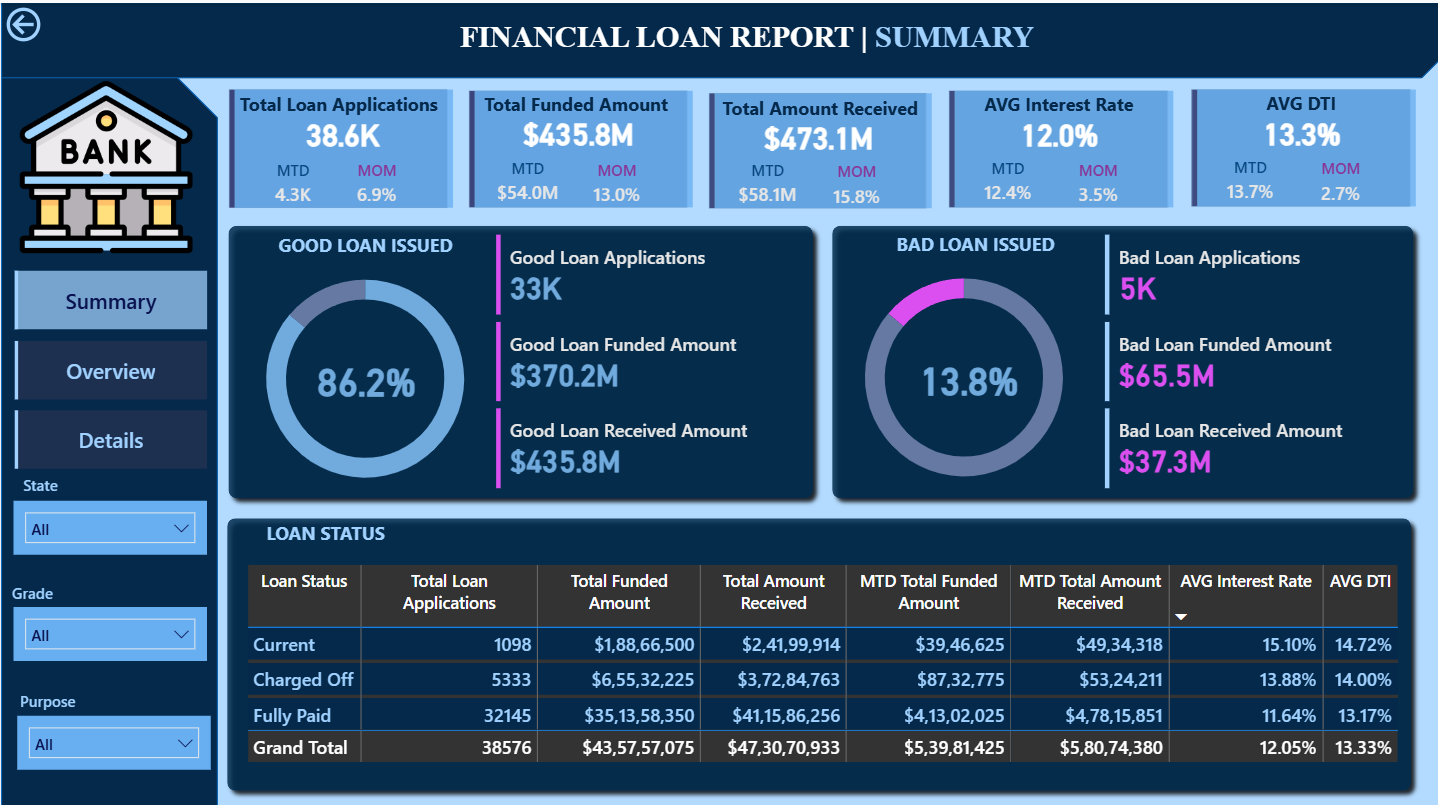

The dashboard page shown, as its layout file describes it:
{"tool":"powerbi","page":{"name":"Summary","canvas":[1280,720],"ordinal":0},"visuals":[{"type":"shape","box":[0,54.3,192.9,665.7],"z":0},{"type":"shape","box":[202.5,72.5,205.2,116.2],"z":0,"group":"g1"},{"type":"shape","box":[1057.7,72.5,205.4,115.1],"z":0,"group":"g7"},{"type":"shape","box":[416.1,73.9,204.9,114.8],"z":0,"group":"g3"},{"type":"shape","box":[843,73.9,205.4,114.8],"z":0,"group":"g6"},{"type":"shape","box":[629.7,75.4,204.1,113.4],"z":0,"group":"g4"},{"type":"shape","box":[730,190,534.3,260],"z":0,"group":"g8"},{"type":"shape","box":[0,0,1280,68],"z":1000},{"type":"group","id":"g1","title":"Group 1","box":[202.5,72.5,205.2,116.2],"z":1000,"group":"g2"},{"type":"textbox","box":[1054.6,74.1,202.8,36.8],"z":1000,"group":"g7"},{"type":"textbox","box":[205.1,74.4,195.9,36],"z":1000,"group":"g1"},{"type":"textbox","box":[413,75.5,202.3,36.7],"z":1000,"group":"g3"},{"type":"textbox","box":[839.9,75.5,202.8,36.7],"z":1000,"group":"g6"},{"type":"textbox","box":[628.1,77.2,200.9,35.9],"z":1000,"group":"g4"},{"type":"donutChart","fields":{"Category":["financial_loan_analysis financial_loan_data.Good vs Bad Loans"],"Y":["financial_loan_analysis financial_loan_data.Total Loan Applications"]},"box":[731.6,219.4,250,230],"z":1000,"group":"g8"},{"type":"textbox","box":[344,10.7,637.3,44],"z":2000},{"type":"card","title":"MTD","fields":{"Values":["financial_loan_analysis financial_loan_data.MTD AVG DTI"]},"box":[1075.8,138.1,70.2,43.9],"z":2000,"group":"g7"},{"type":"card","title":"MTD","fields":{"Values":["financial_loan_analysis financial_loan_data.MTD Total Funded Amount"]},"box":[434.2,139.4,70.1,43.8],"z":2000,"group":"g3"},{"type":"card","title":"MTD","fields":{"Values":["financial_loan_analysis financial_loan_data.MTD AVG Interest Rate"]},"box":[861.1,139.4,70.2,43.8],"z":2000,"group":"g6"},{"type":"card","title":"MTD","fields":{"Values":["financial_loan_analysis financial_loan_data.MTD Loan Applications"]},"box":[231.3,139.9,57.1,42.4],"z":2000,"group":"g1"},{"type":"card","title":"MTD","fields":{"Values":["financial_loan_analysis financial_loan_data.MTD Total Amount Received"]},"box":[647.7,140.1,69.8,43.2],"z":2000,"group":"g4"},{"type":"card","fields":{"Values":["financial_loan_analysis financial_loan_data.Bad Loan %"]},"box":[757.3,313.7,205.7,42.9],"z":2000,"group":"g8"},{"type":"actionButton","box":[0,0,100,40],"z":3000},{"type":"card","fields":{"Values":["financial_loan_analysis financial_loan_data.Total Funded Amount"]},"box":[413,94.4,202.3,46.2],"z":3000,"group":"g3"},{"type":"card","fields":{"Values":["financial_loan_analysis financial_loan_data.Total Loan Applications"]},"box":[206.5,95.9,194.6,43.1],"z":3000,"group":"g1"},{"type":"card","fields":{"Values":["financial_loan_analysis financial_loan_data.AVG DTI"]},"box":[1054.3,96.2,204.1,42.7],"z":3000,"group":"g7"},{"type":"card","fields":{"Values":["financial_loan_analysis financial_loan_data.AVG Interest Rate"]},"box":[839.6,97.6,204.1,42.6],"z":3000,"group":"g6"},{"type":"card","fields":{"Values":["financial_loan_analysis financial_loan_data.Total Amount Received"]},"box":[626.3,98.8,202.7,42.1],"z":3000,"group":"g4"},{"type":"textbox","box":[767.3,199.4,197.1,40],"z":3000,"group":"g8"},{"type":"group","id":"g2","title":"Group 2","box":[202.5,72.5,1061.2,116.2],"z":4000},{"type":"card","title":"MOM","fields":{"Values":["financial_loan_analysis financial_loan_data.MOM AVG DTI"]},"box":[1153.9,139.2,73.1,41.9],"z":4000,"group":"g7"},{"type":"card","title":"MOM","fields":{"Values":["financial_loan_analysis financial_loan_data.MOM Loan Applications"]},"box":[298.6,139.9,73,42.4],"z":4000,"group":"g1"},{"type":"card","title":"MOM","fields":{"Values":["financial_loan_analysis financial_loan_data.MOM Total Funded Amount"]},"box":[512,140.5,72.9,41.8],"z":4000,"group":"g3"},{"type":"card","title":"MOM","fields":{"Values":["financial_loan_analysis financial_loan_data.MOM AVG Interest Rate"]},"box":[939.2,140.5,73.1,41.8],"z":4000,"group":"g6"},{"type":"card","title":"MOM","fields":{"Values":["financial_loan_analysis financial_loan_data.MOM Amount Received"]},"box":[725.2,141.1,72.6,41.3],"z":4000,"group":"g4"},{"type":"cardVisual","fields":{"Data":["financial_loan_analysis financial_loan_data.Bad Loan Applications","financial_loan_analysis financial_loan_data.Bad Loan Funded Amount","financial_loan_analysis financial_loan_data.Bad Loan Received Amount"]},"box":[964.3,190,328.6,260],"z":4000,"group":"g8"},{"type":"group","id":"g3","title":"Group 1","box":[413,73.9,208,114.8],"z":5000,"group":"g2"},{"type":"shape","box":[192.9,190,537.1,260],"z":5000,"group":"g5"},{"type":"shape","box":[192.5,450,1070,260],"z":5000},{"type":"group","id":"g4","title":"Group 1","box":[626.3,75.4,207.4,113.4],"z":6000,"group":"g2"},{"type":"group","id":"g5","title":"Group 3","box":[192.9,190,545.7,260],"z":6000},{"type":"donutChart","fields":{"Category":["financial_loan_analysis financial_loan_data.Good vs Bad Loans"],"Y":["financial_loan_analysis financial_loan_data.Total Loan Applications"]},"box":[198.4,220,250,230],"z":6000,"group":"g5"},{"type":"group","id":"g6","title":"Group 1","box":[839.6,73.9,209.4,114.8],"z":7000,"group":"g2"},{"type":"textbox","box":[190,455.7,197.1,40],"z":7000},{"type":"group","id":"g7","title":"Group 1","box":[1054.3,72.5,209.4,116.2],"z":8000,"group":"g2"},{"type":"group","id":"g8","title":"Group 4","box":[730,190,562.9,260],"z":8000},{"type":"card","fields":{"Values":["financial_loan_analysis financial_loan_data.Good Loan %"]},"box":[221.3,314.3,205.7,42.9],"z":8000,"group":"g5"},{"type":"textbox","box":[225.6,200,197.1,40],"z":9000,"group":"g5"},{"type":"tableEx","fields":{"Values":["financial_loan_analysis financial_loan_data.loan_status","financial_loan_analysis financial_loan_data.Total Loan Applications","financial_loan_analysis financial_loan_data.Total Funded Amount","financial_loan_analysis financial_loan_data.Total Amount Received","financial_loan_analysis financial_loan_data.MTD Total Funded Amount","financial_loan_analysis financial_loan_data.MTD Total Amount Received","financial_loan_analysis financial_loan_data.AVG Interest Rate","financial_loan_analysis financial_loan_data.AVG DTI"]},"box":[212.9,495.7,1044.3,197.1],"z":9000},{"type":"cardVisual","fields":{"Data":["financial_loan_analysis financial_loan_data.Good Loan Applications","financial_loan_analysis financial_loan_data.Good Loan Funded Amount","financial_loan_analysis financial_loan_data.Good Loan Received Amount"]},"box":[422.7,190,315.7,260],"z":10000,"group":"g5"},{"type":"pageNavigator","box":[12.5,238.8,171.2,176.2],"z":10000},{"type":"textbox","box":[0,415,70.2,52.2],"z":10000,"group":"g9"},{"type":"group","id":"g9","title":"Group 5","box":[0,415,186.2,267.5],"z":11000},{"type":"slicer","fields":{"Values":["financial_loan_analysis financial_loan_data.address_state"]},"box":[11.5,442.4,171.9,48.3],"z":11000,"group":"g9"},{"type":"image","box":[16.2,55,153.8,182.5],"z":11001},{"type":"slicer","fields":{"Values":["financial_loan_analysis financial_loan_data.grade"]},"box":[11.5,537.7,171.9,48.3],"z":12000,"group":"g9"},{"type":"slicer","fields":{"Values":["financial_loan_analysis financial_loan_data.purpose"]},"box":[14.3,634.2,171.9,48.3],"z":13000,"group":"g9"},{"type":"textbox","box":[0,606.8,83.1,27.4],"z":14000,"group":"g9"},{"type":"textbox","box":[0,510.3,55.9,27.4],"z":15000,"group":"g9"}]}

Visuals, with their boxes in screenshot pixels (x1, y1, x2, y2), scaled from the page's 1280x720 canvas onto the 1438x805 screenshot:
shape: 0/61/217/804
shape: 227/81/458/211
shape: 1188/81/1419/210
shape: 467/83/698/211
shape: 947/83/1178/211
shape: 707/84/937/211
shape: 820/212/1420/503
shape: 0/0/1437/76
"Group 1" group: 227/81/458/211
textbox: 1185/83/1413/124
textbox: 230/83/450/123
textbox: 464/84/691/125
textbox: 944/84/1171/125
textbox: 706/86/931/126
donutChart - financial_loan_analysis financial_loan_data.Good vs Bad Loans x financial_loan_analysis financial_loan_data.Total Loan Applications: 822/245/1103/502
textbox: 386/12/1102/61
"MTD" card: 1209/154/1287/203
"MTD" card: 488/156/567/205
"MTD" card: 967/156/1046/205
"MTD" card: 260/156/324/204
"MTD" card: 728/157/806/205
card - financial_loan_analysis financial_loan_data.Bad Loan %: 851/351/1082/399
actionButton: 0/0/112/45
card - financial_loan_analysis financial_loan_data.Total Funded Amount: 464/106/691/157
card - financial_loan_analysis financial_loan_data.Total Loan Applications: 232/107/451/155
card - financial_loan_analysis financial_loan_data.AVG DTI: 1184/108/1414/155
card - financial_loan_analysis financial_loan_data.AVG Interest Rate: 943/109/1173/157
card - financial_loan_analysis financial_loan_data.Total Amount Received: 704/110/931/158
textbox: 862/223/1083/268
"Group 2" group: 227/81/1420/211
"MOM" card: 1296/156/1378/202
"MOM" card: 335/156/417/204
"MOM" card: 575/157/657/204
"MOM" card: 1055/157/1137/204
"MOM" card: 815/158/896/204
cardVisual - financial_loan_analysis financial_loan_data.Bad Loan Applications x financial_loan_analysis financial_loan_data.Bad Loan Funded Amount: 1083/212/1437/503
"Group 1" group: 464/83/698/211
shape: 217/212/820/503
shape: 216/503/1418/794
"Group 1" group: 704/84/937/211
"Group 3" group: 217/212/830/503
donutChart - financial_loan_analysis financial_loan_data.Good vs Bad Loans x financial_loan_analysis financial_loan_data.Total Loan Applications: 223/246/504/503
"Group 1" group: 943/83/1178/211
textbox: 213/509/435/554
"Group 1" group: 1184/81/1420/211
"Group 4" group: 820/212/1437/503
card - financial_loan_analysis financial_loan_data.Good Loan %: 249/351/480/399
textbox: 253/224/475/268
tableEx - financial_loan_analysis financial_loan_data.loan_status x financial_loan_analysis financial_loan_data.Total Loan Applications: 239/554/1412/775
cardVisual - financial_loan_analysis financial_loan_data.Good Loan Applications x financial_loan_analysis financial_loan_data.Good Loan Funded Amount: 475/212/830/503
pageNavigator: 14/267/206/464
textbox: 0/464/79/522
"Group 5" group: 0/464/209/763
slicer - financial_loan_analysis financial_loan_data.address_state: 13/495/206/549
image: 18/61/191/266
slicer - financial_loan_analysis financial_loan_data.grade: 13/601/206/655
slicer - financial_loan_analysis financial_loan_data.purpose: 16/709/209/763
textbox: 0/678/93/709
textbox: 0/571/63/601
